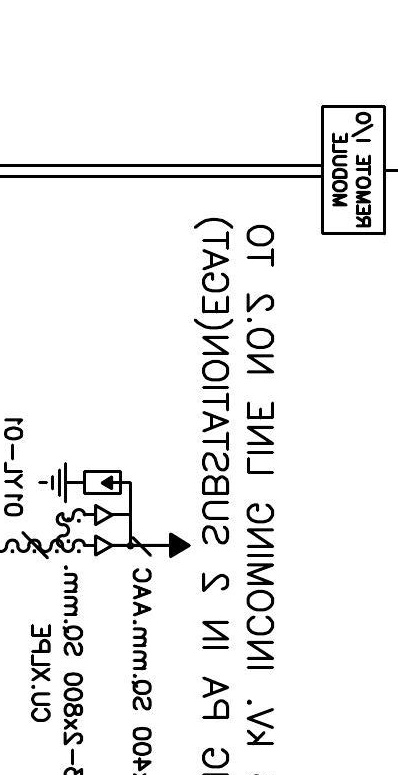115_la: (37, 461, 122, 504)
remote_io_module: (321, 105, 386, 236)
terminator_double: (93, 503, 133, 558)
